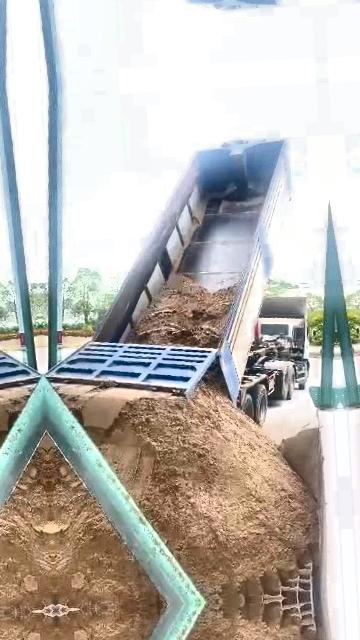sand: (89, 381, 316, 602), (48, 446, 162, 609), (128, 277, 235, 347), (60, 385, 174, 442), (279, 419, 323, 507)
